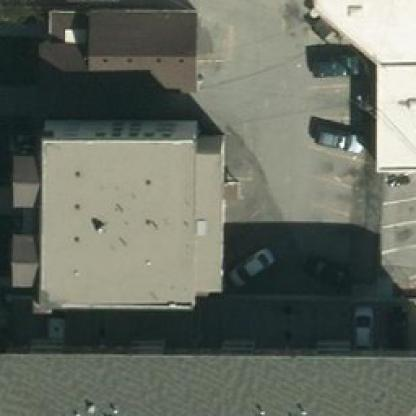car: (300, 249, 354, 288), (226, 244, 274, 284), (312, 122, 367, 153), (308, 48, 368, 76), (351, 304, 374, 354)
